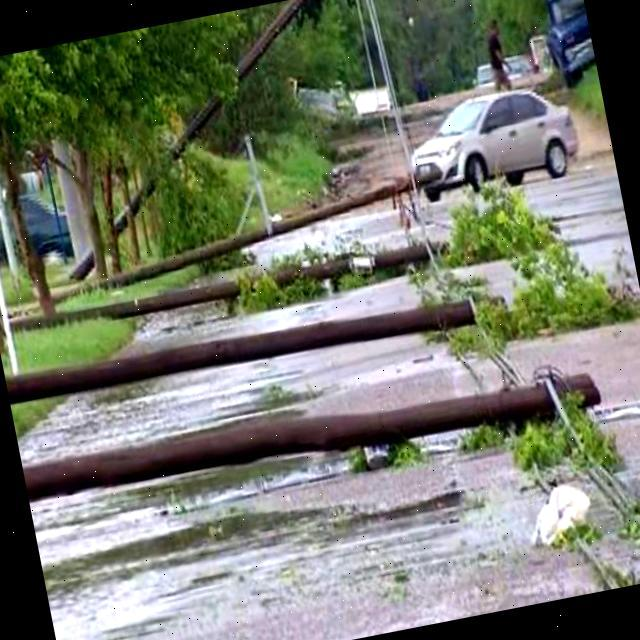Broken Pole: (23, 369, 604, 507), (67, 0, 307, 277), (52, 166, 444, 305), (5, 297, 474, 405), (7, 237, 450, 334)
